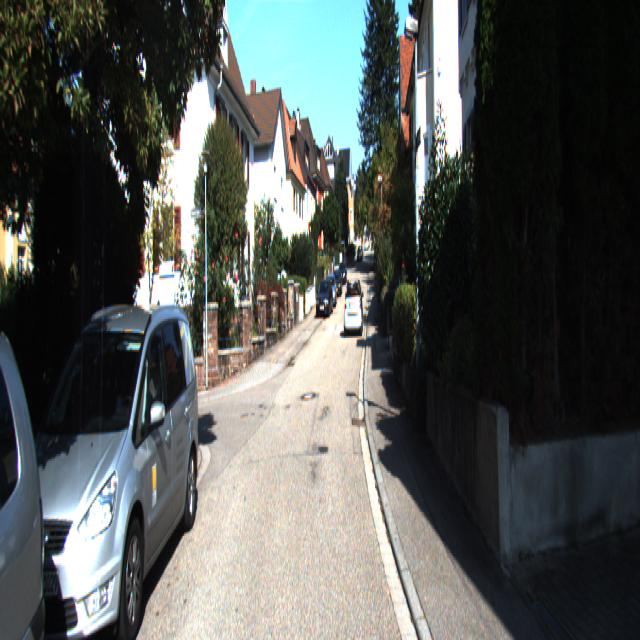Car: (0, 311, 205, 638), (344, 278, 364, 339), (315, 278, 334, 318)
DontCare: (334, 235, 365, 274)
Van: (0, 275, 68, 638)
